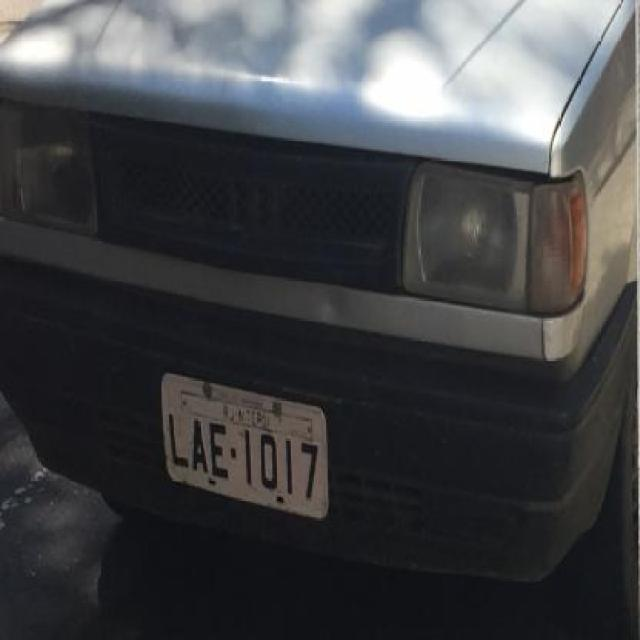old_plate: (158, 369, 333, 524)
